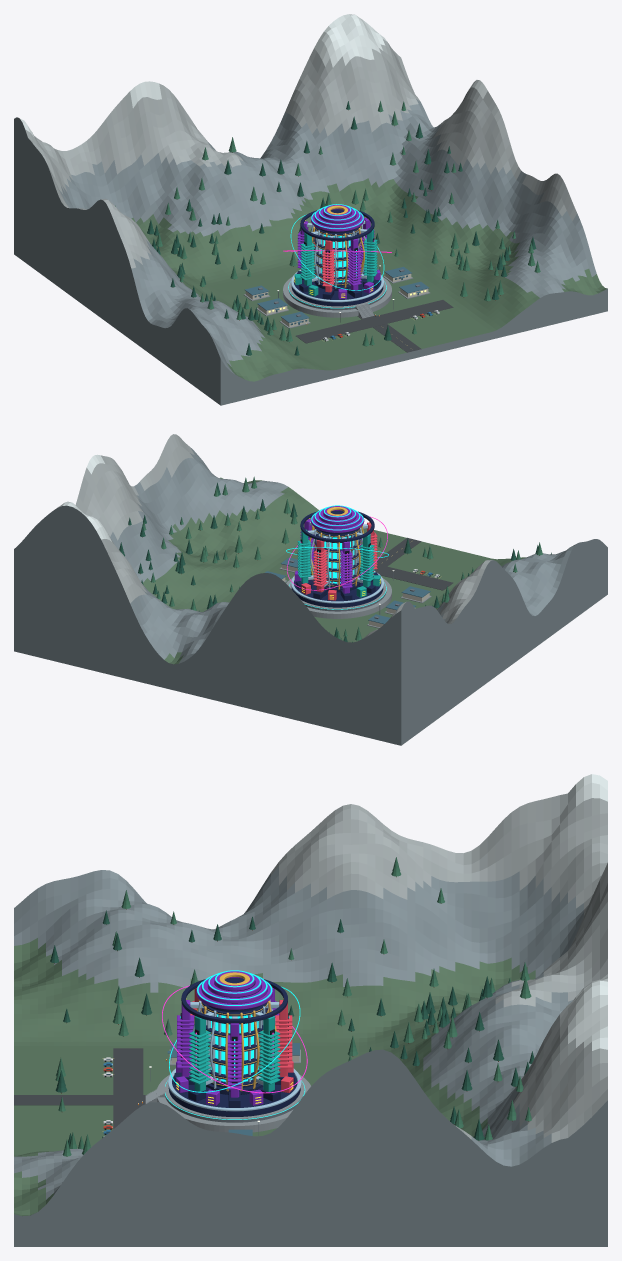
The model's file is scifi_core_valley_0001.glb.
The picture shows the model from 3 angles, top to bottom: view 1: azimuth 30°, elevation 25°; view 2: azimuth 150°, elevation 25°; view 3: azimuth 270°, elevation 25°; orthographic projection. The views are drawn at different scales.
Visible parts, largest first — view 1: Rock slate, Valley moss, High rock, Pine light, Snow cap, Pine dark, 01 Midnight blue ceramic, 02 Violet enamel, Road, Concrete, 03 Turquoise enamel, 06 Icy titanium (+5 smaller); view 2: Rock slate, Valley moss, High rock, 01 Midnight blue ceramic, Pine light, 02 Violet enamel, 03 Turquoise enamel, Pine dark, Road, 06 Icy titanium, Concrete, 04 Coral enamel (+4 smaller); view 3: Rock slate, Valley moss, High rock, 01 Midnight blue ceramic, 02 Violet enamel, Pine light, Snow cap, Pine dark, Road, 03 Turquoise enamel, Concrete, 06 Icy titanium (+3 smaller).
Part boxes in pixels (x1,y1,x2,y2): Rock slate: [14, 99, 607, 405]; Valley moss: [131, 178, 607, 381]; High rock: [25, 39, 576, 268]; Pine light: [115, 101, 540, 346]; Snow cap: [20, 14, 487, 137]; Pine dark: [147, 101, 536, 355]; 01 Midnight blue ceramic: [291, 209, 383, 306]; 02 Violet enamel: [297, 204, 380, 299]; Road: [296, 300, 453, 352]; Concrete: [243, 276, 430, 328]; 03 Turquoise enamel: [294, 228, 377, 296]; 06 Icy titanium: [291, 220, 383, 302]; Rock slate: [14, 447, 607, 745]; Valley moss: [143, 477, 525, 664]; High rock: [75, 434, 492, 639]; 01 Midnight blue ceramic: [291, 511, 383, 607]; Pine light: [142, 476, 542, 640]; 02 Violet enamel: [294, 506, 364, 593]; 03 Turquoise enamel: [297, 529, 380, 597]; Pine dark: [119, 482, 551, 642]; Road: [296, 537, 453, 590]; 06 Icy titanium: [291, 521, 383, 603]; Concrete: [279, 567, 431, 628]; 04 Coral enamel: [301, 522, 377, 600]; Rock slate: [14, 866, 607, 1246]; Valley moss: [14, 938, 535, 1216]; High rock: [271, 784, 607, 1142]; 01 Midnight blue ceramic: [168, 978, 300, 1116]; 02 Violet enamel: [176, 971, 279, 1105]; Pine light: [55, 857, 531, 1156]; Snow cap: [560, 774, 607, 1050]; Pine dark: [50, 910, 534, 1145]; Road: [14, 1048, 146, 1128]; 03 Turquoise enamel: [189, 1016, 280, 1091]; Concrete: [145, 1049, 310, 1132]; 06 Icy titanium: [168, 999, 301, 1111].
Bounding box in the file's own units: 320 × 126 × 296.
